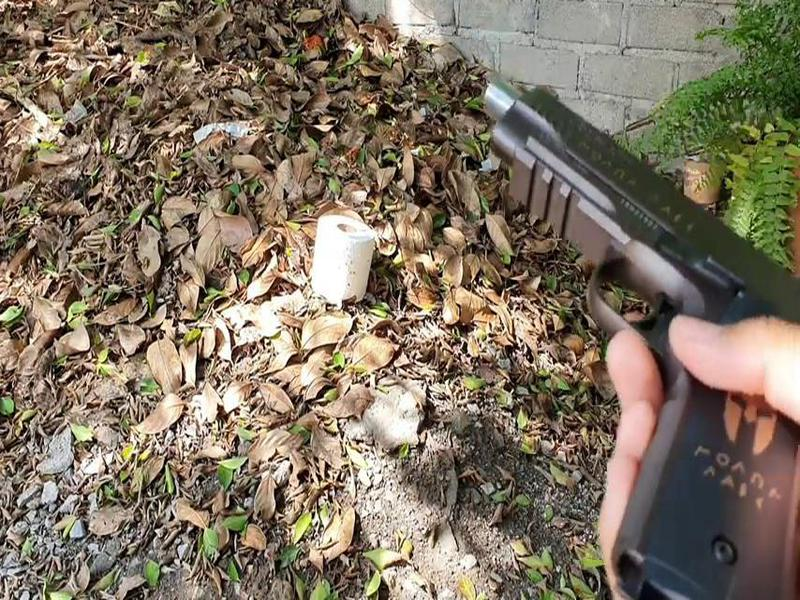Pistola: (418, 37, 800, 581)
